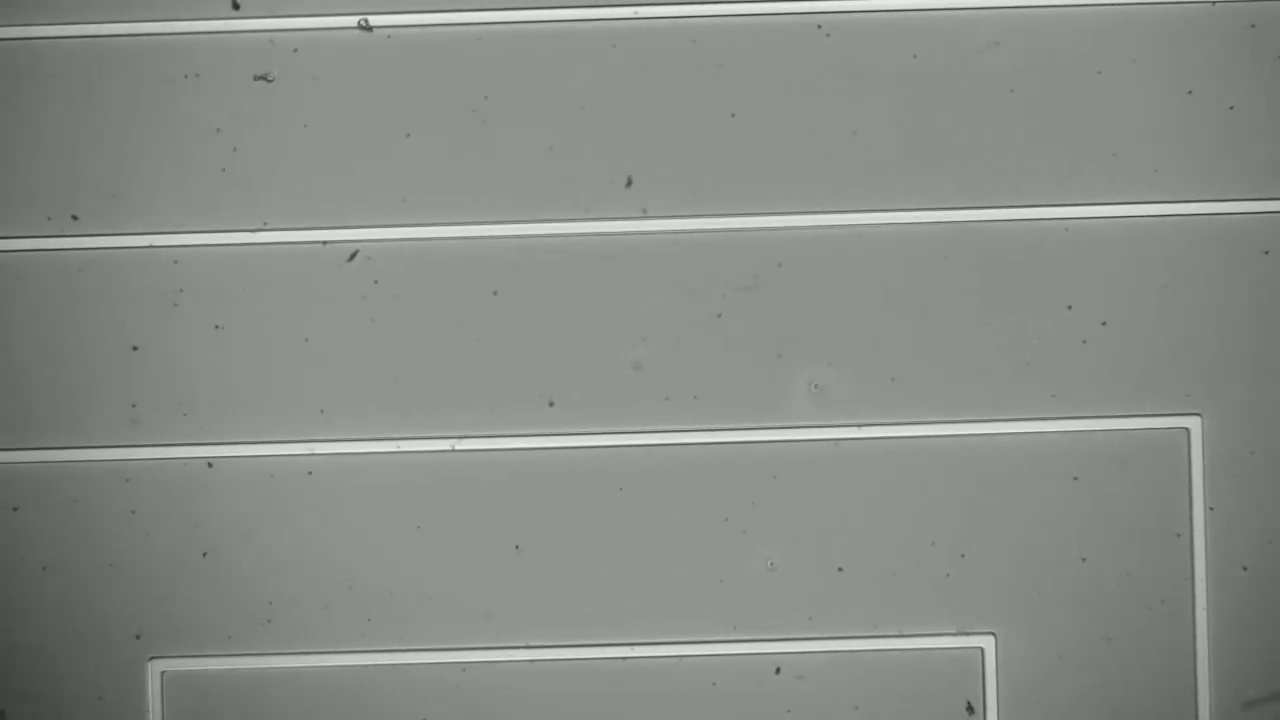stains_enbedded: (344, 9, 380, 39)
